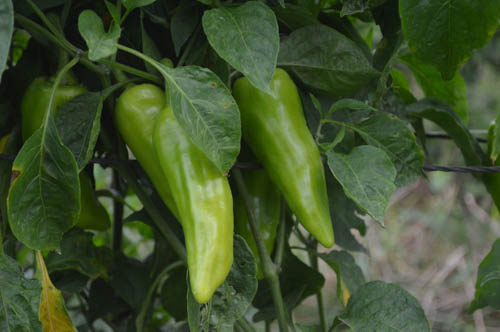ChiliPepper: (238, 66, 343, 255), (155, 110, 234, 308), (25, 78, 107, 235), (120, 85, 180, 217), (237, 166, 278, 272)
